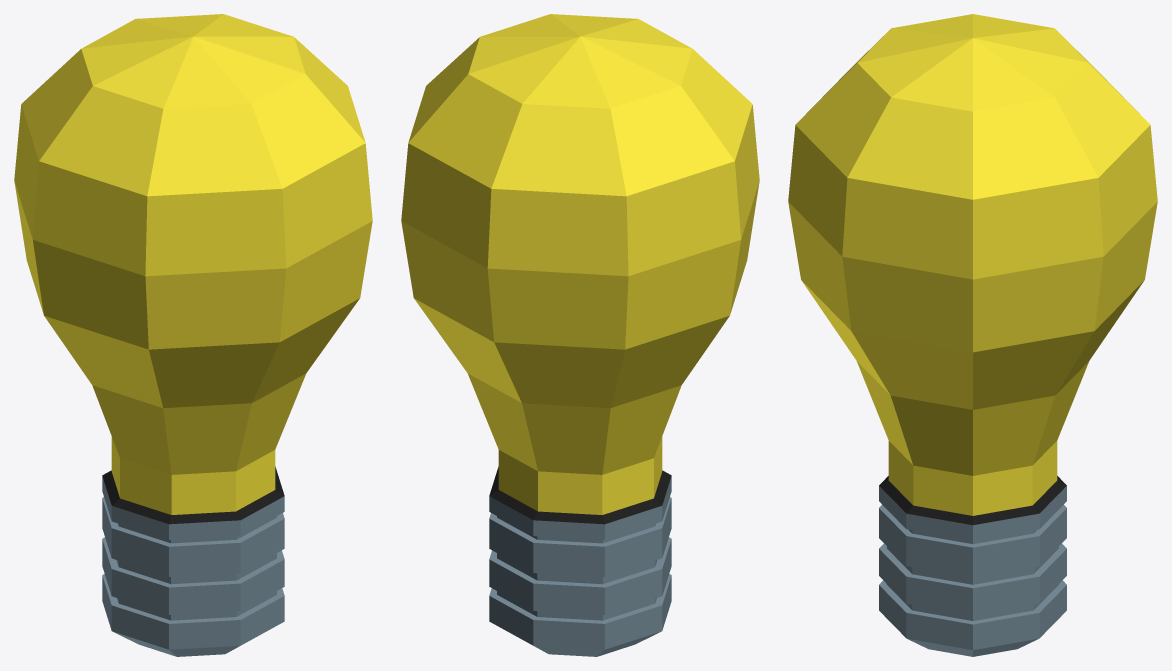
Rendered from lightbulb.gltf.
The picture shows the model from 3 angles, left to right: view 1: azimuth 30°, elevation 25°; view 2: azimuth 150°, elevation 25°; view 3: azimuth 270°, elevation 25°; orthographic projection.
Parts seen in each view (by area): view 1: Light_bulb_01_Circle.008; view 2: Light_bulb_01_Circle.008; view 3: Light_bulb_01_Circle.008.
Part boxes in pixels (x1,y1,x2,y2): Light_bulb_01_Circle.008: (14, 14, 372, 656); Light_bulb_01_Circle.008: (401, 14, 759, 656); Light_bulb_01_Circle.008: (788, 14, 1157, 656).
Size of the model in its own units: 5.49 by 9.99 by 5.49.
